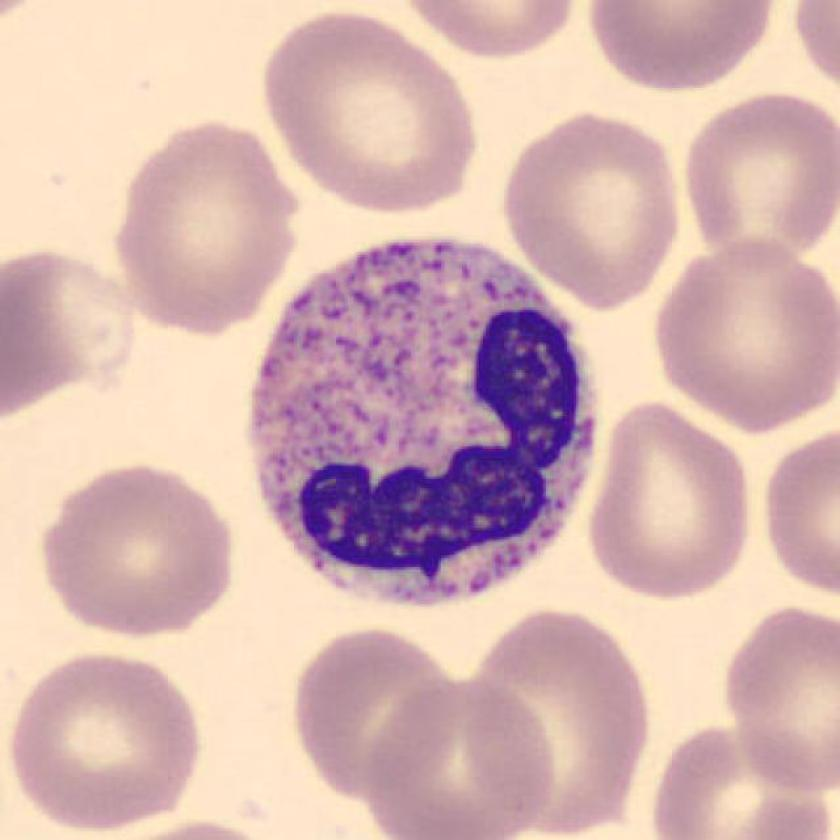neutrophil: (254, 243, 598, 609)
